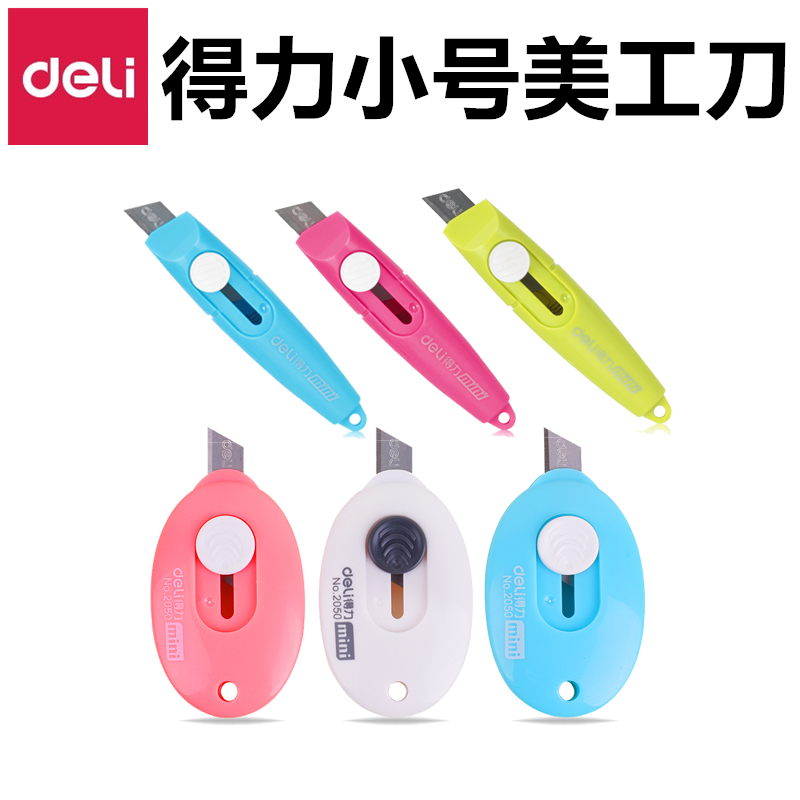cutter: (418, 189, 676, 425), (118, 200, 373, 432), (272, 200, 518, 429), (488, 428, 650, 722), (148, 428, 306, 720), (318, 429, 472, 721)
